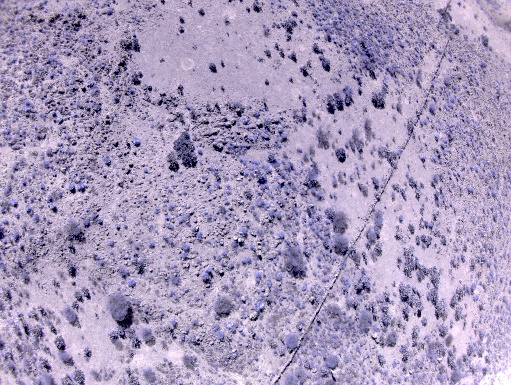agave: (47, 51, 63, 75), (1, 130, 29, 142), (121, 267, 136, 288), (238, 156, 260, 167), (87, 80, 100, 98), (202, 269, 214, 285), (277, 128, 289, 143), (181, 243, 190, 261), (257, 198, 269, 211), (165, 215, 174, 231), (106, 8, 117, 21), (110, 95, 123, 105), (53, 111, 62, 125), (38, 109, 49, 120), (23, 67, 34, 78), (196, 230, 204, 244), (277, 232, 287, 243), (11, 231, 22, 241), (115, 223, 130, 230), (24, 102, 34, 112), (67, 184, 77, 194), (102, 157, 113, 166), (24, 205, 33, 216), (76, 183, 86, 192), (240, 227, 249, 237), (42, 162, 52, 171), (239, 258, 254, 264), (83, 221, 93, 229), (242, 118, 252, 126), (97, 259, 107, 267), (63, 133, 71, 143), (227, 261, 236, 269), (106, 240, 115, 248), (256, 273, 262, 284), (276, 271, 282, 282), (143, 169, 151, 177), (133, 140, 142, 147), (128, 87, 135, 96), (197, 146, 203, 156), (181, 190, 189, 197), (49, 206, 58, 212), (94, 141, 103, 147), (19, 181, 28, 187), (134, 245, 142, 251), (97, 46, 102, 55), (150, 243, 157, 249), (40, 186, 46, 189)
